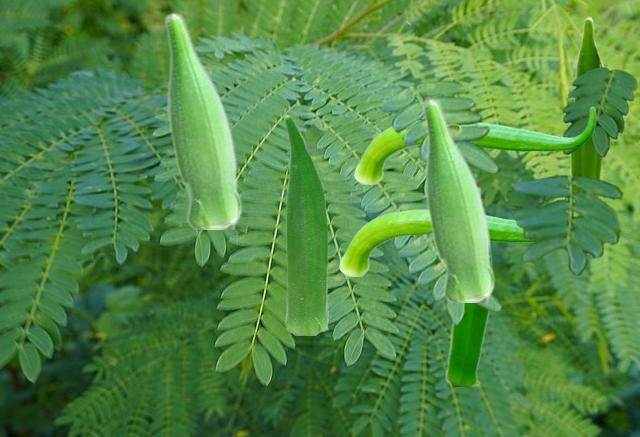okra: (354, 106, 595, 183), (163, 12, 240, 228), (421, 98, 493, 301), (339, 208, 529, 275), (284, 114, 327, 334), (445, 186, 492, 385), (570, 16, 604, 178)
